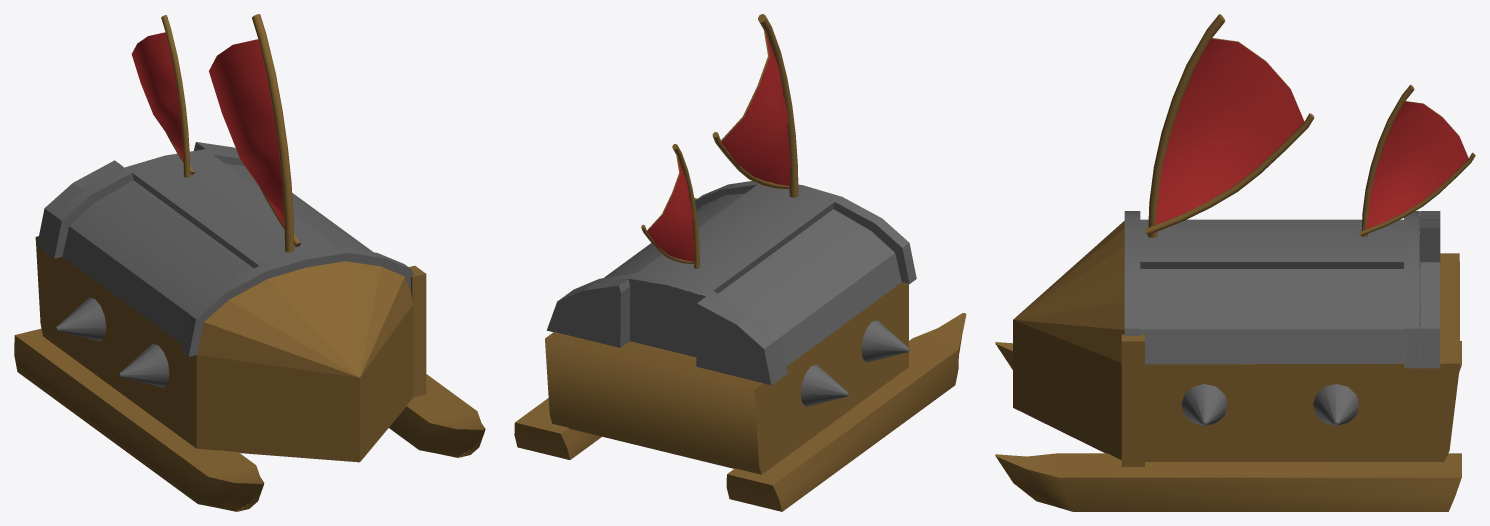
Rendered from Model Textured_Tanker Enemy.fbx.
The picture shows the model from 3 angles, left to right: view 1: azimuth 30°, elevation 25°; view 2: azimuth 150°, elevation 25°; view 3: azimuth 270°, elevation 25°; orthographic projection. The views are drawn at different scales.
Visible parts, largest first — view 1: Sail poll Tanker, Tank 2, Tank_Outtrigger, Sail tanker001, Tank_Outtrigger001, Sail tanker002, Tank_Poll, Tank_Spike, Tank_Spike001, Tank_Poll001; view 2: Tank 2, Sail poll Tanker, Tank_Outtrigger, Sail tanker001, Tank_Outtrigger001, Sail tanker002, Tank_Poll, Tank_Spike, Tank_Spike001, Tank_Poll001; view 3: Sail poll Tanker, Tank 2, Tank_Outtrigger001, Sail tanker001, Sail tanker002, Tank_Poll, Tank_Poll001, Tank_Spike002, Tank_Spike003.
Boxes of the visible parts, left/top/right/bottom form: Sail poll Tanker: left=35, top=236, right=426, bottom=462; Tank 2: left=37, top=142, right=413, bottom=356; Tank_Outtrigger: left=14, top=328, right=264, bottom=511; Sail tanker001: left=209, top=39, right=284, bottom=227; Tank_Outtrigger001: left=389, top=374, right=485, bottom=457; Sail tanker002: left=131, top=32, right=183, bottom=161; Tank_Poll: left=252, top=14, right=300, bottom=252; Tank_Spike: left=118, top=344, right=169, bottom=387; Tank_Spike001: left=55, top=297, right=106, bottom=341; Tank_Poll001: left=161, top=15, right=194, bottom=177; Tank 2: left=546, top=181, right=916, bottom=385; Sail poll Tanker: left=545, top=193, right=908, bottom=474; Tank_Outtrigger: left=726, top=313, right=966, bottom=511; Sail tanker001: left=721, top=31, right=790, bottom=185; Tank_Outtrigger001: left=514, top=398, right=601, bottom=459; Sail tanker002: left=647, top=156, right=694, bottom=261; Tank_Poll: left=712, top=14, right=798, bottom=197; Tank_Spike: left=861, top=320, right=909, bottom=362; Tank_Spike001: left=800, top=364, right=849, bottom=406; Tank_Poll001: left=641, top=144, right=699, bottom=268; Sail poll Tanker: left=1013, top=221, right=1460, bottom=466; Tank 2: left=1124, top=211, right=1440, bottom=368; Tank_Outtrigger001: left=995, top=453, right=1461, bottom=511; Sail tanker001: left=1155, top=38, right=1304, bottom=224; Sail tanker002: left=1366, top=101, right=1468, bottom=228; Tank_Poll: left=1144, top=14, right=1314, bottom=237; Tank_Poll001: left=1359, top=84, right=1475, bottom=236; Tank_Spike002: left=1313, top=384, right=1359, bottom=425; Tank_Spike003: left=1181, top=384, right=1227, bottom=425.
Size of the model in its own units: 75.06 by 98.92 by 102.
